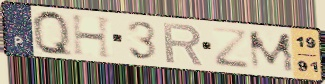3: (125, 20, 159, 61)
H: (69, 13, 114, 61)
M: (246, 30, 298, 74)
Q: (30, 8, 76, 60)
R: (161, 21, 206, 67)
Z: (210, 25, 251, 71)
